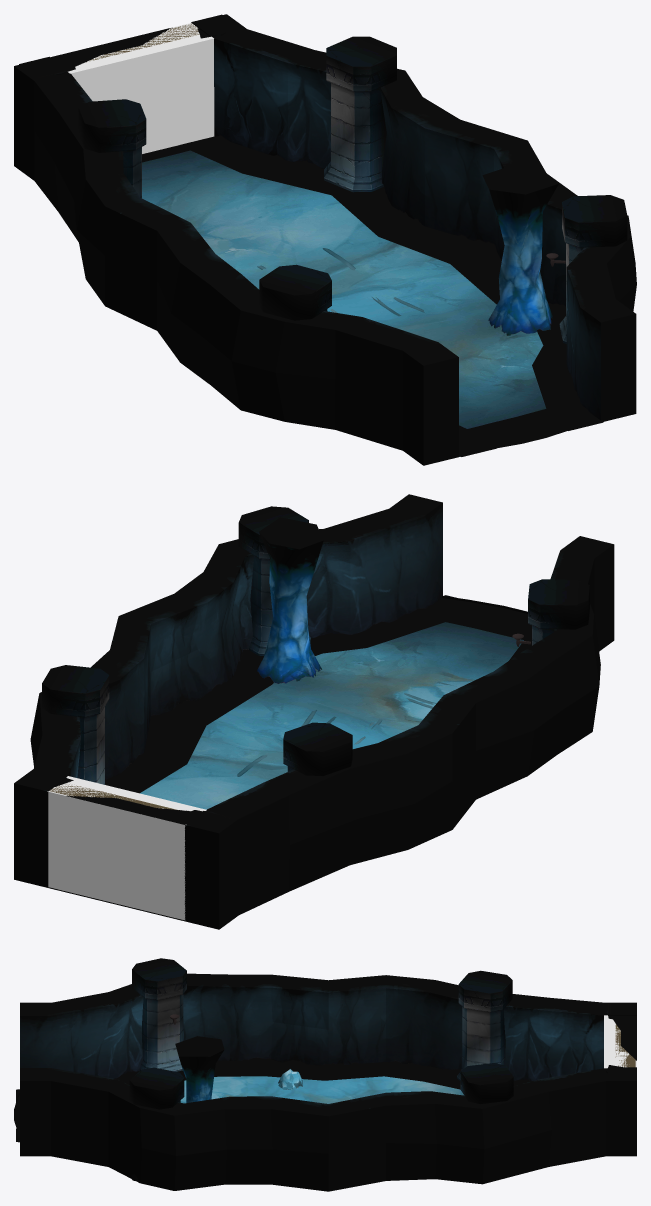
Rendered from Dungeon_033_StepPointRoad_002.fbx.
3 renders of one model, top to bottom at view 1: azimuth 30°, elevation 25°; view 2: azimuth 150°, elevation 25°; view 3: azimuth 270°, elevation 25°, orthographic. The views are drawn at different scales.
Visible parts, largest first — view 1: Dan1, Dan2, Dan1_shadow, DoorWay_NavMask (1), Dungeon_033_Pillar_001, Dungeon_011_Object_010, Dungeon_033_Pillar_001 (3), Dungeon_033_Pillar_001 (1), Dungeon_033_Pillar_001 (2), Dun_011_Door_002_old, Dun_011_Door_002_shadow, Dun_011_Door_003_WarpRoom; view 2: Dan1, Dan2, DoorWay_NavMask (1), Dan1_shadow, Dungeon_011_Object_010, Dungeon_033_Pillar_001, Dungeon_033_Pillar_001 (1), Dungeon_033_Pillar_001 (2), Dungeon_033_Pillar_001 (3), Dun_011_Door_002_old, Dun_011_Door_002_shadow, Dun_011_Door_002 (+1 smaller); view 3: Dan1, Dungeon_033_Pillar_001 (2), Dan2, Dan1_shadow, Dungeon_033_Pillar_001 (3), Dungeon_011_Object_010, Dungeon_033_Pillar_001 (1), Dungeon_033_Pillar_001, Dun_011_Door_002_old, DoorWay_NavMask (1), Dun_011_Door_003_WarpRoom.
Part boxes in pixels (x1=…): Dan1: x1=14, y1=14, x2=636, y2=465; Dan2: x1=142, y1=150, x2=546, y2=456; Dan1_shadow: x1=179, y1=135, x2=603, y2=456; DoorWay_NavMask (1): x1=68, y1=23, x2=214, y2=153; Dungeon_033_Pillar_001: x1=324, y1=36, x2=396, y2=192; Dungeon_011_Object_010: x1=482, y1=166, x2=558, y2=335; Dungeon_033_Pillar_001 (3): x1=78, y1=99, x2=146, y2=198; Dungeon_033_Pillar_001 (1): x1=559, y1=195, x2=627, y2=343; Dungeon_033_Pillar_001 (2): x1=259, y1=264, x2=331, y2=320; Dun_011_Door_002_old: x1=19, y1=14, x2=240, y2=77; Dun_011_Door_002_shadow: x1=467, y1=409, x2=567, y2=448; Dun_011_Door_003_WarpRoom: x1=86, y1=23, x2=199, y2=62; Dan1: x1=14, y1=494, x2=614, y2=929; Dan2: x1=140, y1=622, x2=523, y2=809; DoorWay_NavMask (1): x1=47, y1=776, x2=206, y2=920; Dan1_shadow: x1=105, y1=595, x2=531, y2=793; Dungeon_011_Object_010: x1=257, y1=517, x2=323, y2=683; Dungeon_033_Pillar_001: x1=42, y1=665, x2=109, y2=784; Dungeon_033_Pillar_001 (1): x1=238, y1=506, x2=310, y2=655; Dungeon_033_Pillar_001 (2): x1=528, y1=579, x2=589, y2=645; Dungeon_033_Pillar_001 (3): x1=283, y1=722, x2=352, y2=865; Dun_011_Door_002_old: x1=19, y1=770, x2=232, y2=831; Dun_011_Door_002_shadow: x1=442, y1=596, x2=531, y2=639; Dun_011_Door_002: x1=38, y1=771, x2=232, y2=921; Dan1: x1=20, y1=973, x2=636, y2=1191; Dungeon_033_Pillar_001 (2): x1=132, y1=958, x2=186, y2=1071; Dan2: x1=180, y1=1076, x2=464, y2=1103; Dan1_shadow: x1=16, y1=1057, x2=530, y2=1142; Dungeon_033_Pillar_001 (3): x1=457, y1=970, x2=512, y2=1080; Dungeon_011_Object_010: x1=175, y1=1036, x2=224, y2=1102; Dungeon_033_Pillar_001 (1): x1=129, y1=1067, x2=184, y2=1181; Dungeon_033_Pillar_001: x1=460, y1=1063, x2=513, y2=1177; Dun_011_Door_002_old: x1=608, y1=1004, x2=636, y2=1078; DoorWay_NavMask (1): x1=604, y1=1015, x2=636, y2=1068; Dun_011_Door_003_WarpRoom: x1=615, y1=1024, x2=635, y2=1067.
Size of what is drawn, in the model's own units: 8.54 by 2.96 by 15.15.
